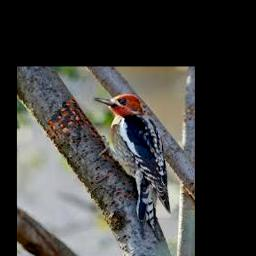Woodpecker: (93, 94, 170, 241)
